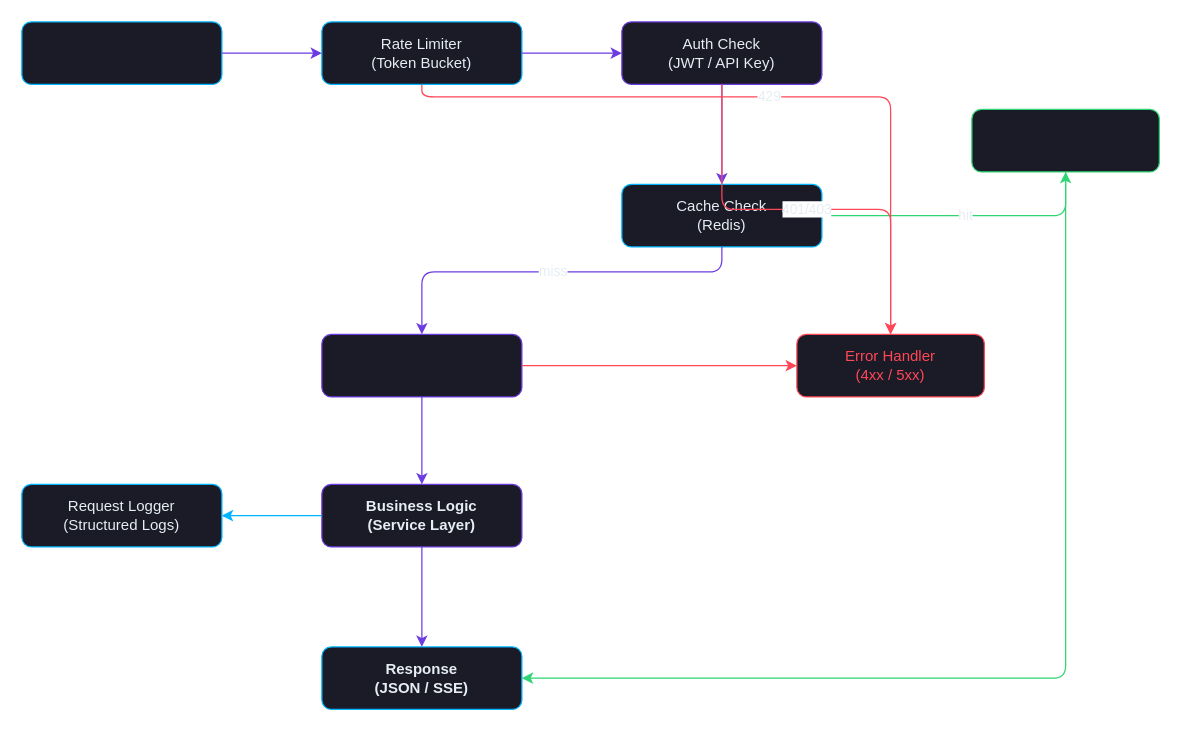
The diagram is 1181 pixels wide and 731 high, and some of its shapes have lost their labels. Here are the shapes that lost their labels. From the top down, the centre of each, then its label:
At (x=121, y=52): "Client Request".
At (x=1065, y=140): "Cache Hit (Return Cached)".
At (x=421, y=365): "Route Handler (FastAPI Router)".
